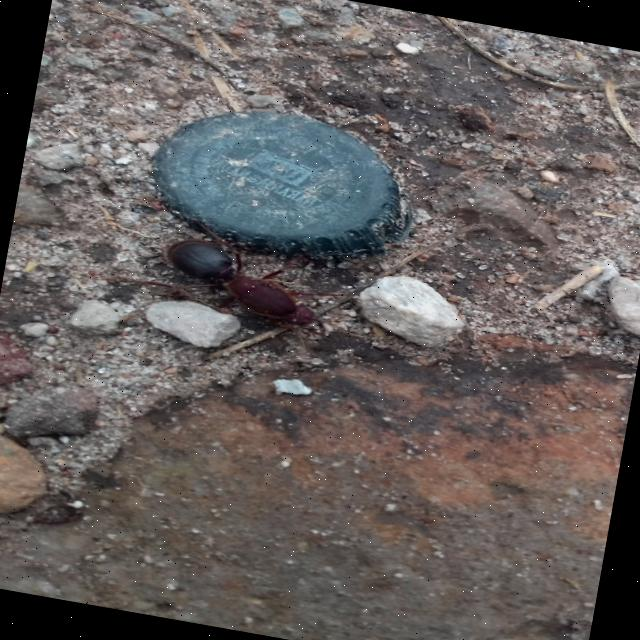Alive-Female-Dealate: (76, 204, 378, 374)
